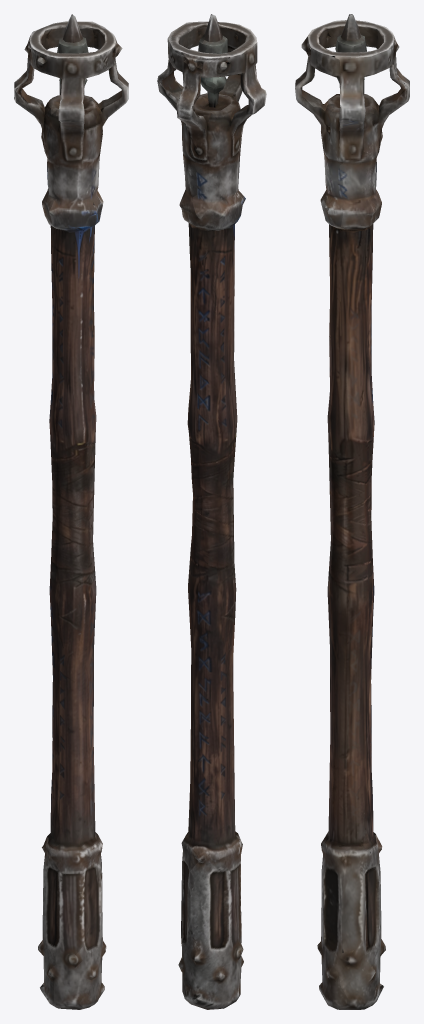
Rendered from SM_Staff_Iron_Reinforced_Staff.FBX.
3 views of the same model, side by side, from view 1: azimuth 90°, elevation 25°; view 2: azimuth 150°, elevation 25°; view 3: azimuth 270°, elevation 25° (orthographic).
Visible parts, largest first — view 1: SM_Staff_Iron_Reinforced_Staff; view 2: SM_Staff_Iron_Reinforced_Staff; view 3: SM_Staff_Iron_Reinforced_Staff.
Boxes of the visible parts, left/top/right/bottom form: SM_Staff_Iron_Reinforced_Staff: left=14, top=14, right=128, bottom=1009; SM_Staff_Iron_Reinforced_Staff: left=157, top=14, right=266, bottom=1009; SM_Staff_Iron_Reinforced_Staff: left=295, top=14, right=409, bottom=1009.
Size of what is drawn, in the model's own units: 16.58 by 16.86 by 160.
